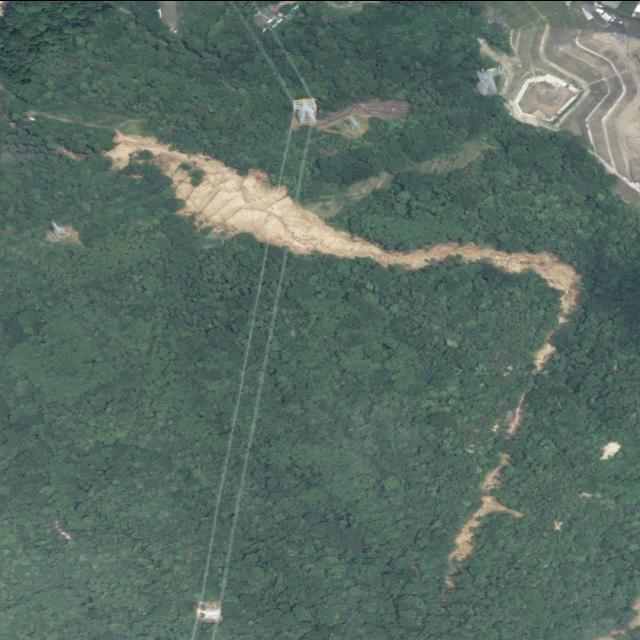landslide: (100, 127, 582, 324), (445, 454, 523, 590)
